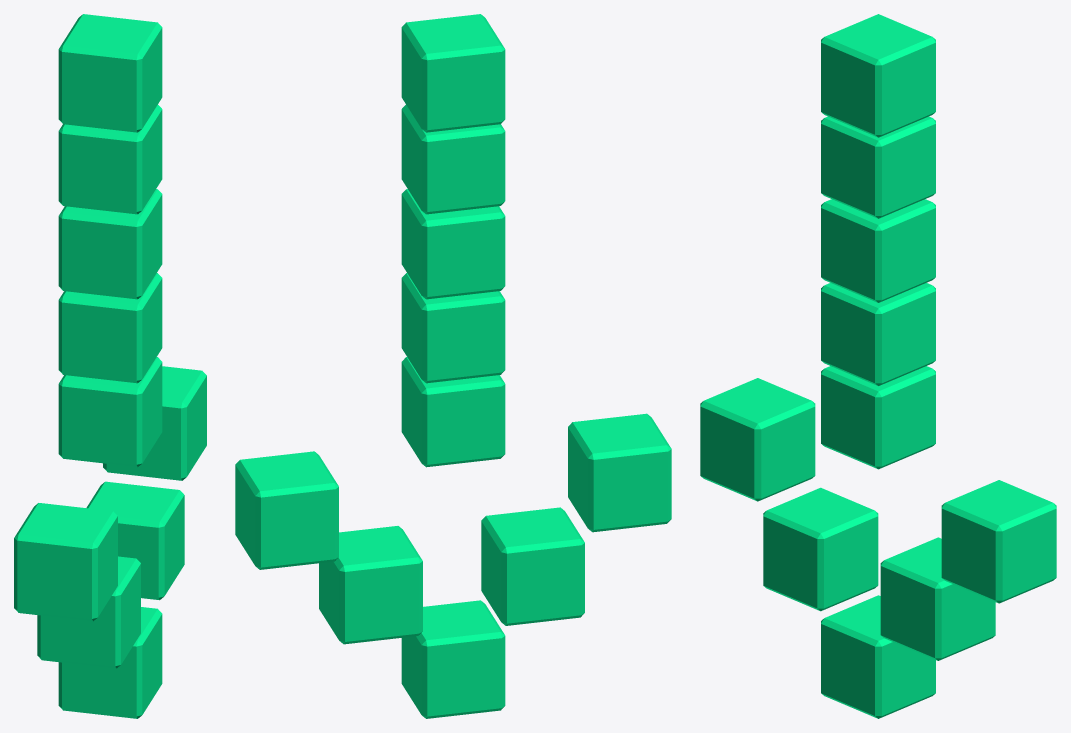
The model's file is Arrow.glb.
3 views of the same model, side by side, from view 1: azimuth 30°, elevation 25°; view 2: azimuth 150°, elevation 25°; view 3: azimuth 270°, elevation 25° (orthographic).
Parts seen in each view (by area): view 1: Arrow; view 2: Arrow; view 3: Arrow.
Part boxes in pixels (<box>): Arrow: <box>14,14,206,718</box>; Arrow: <box>235,14,671,718</box>; Arrow: <box>700,14,1056,718</box>.
Bounding box in the file's own units: 0.5096 × 1.04 × 0.5096.
Materials: 1 (1 with a texture image).
